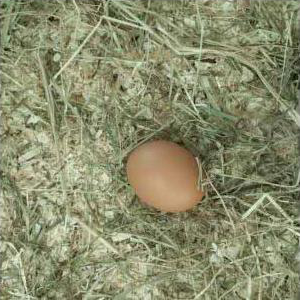egg: (127, 141, 205, 214)
